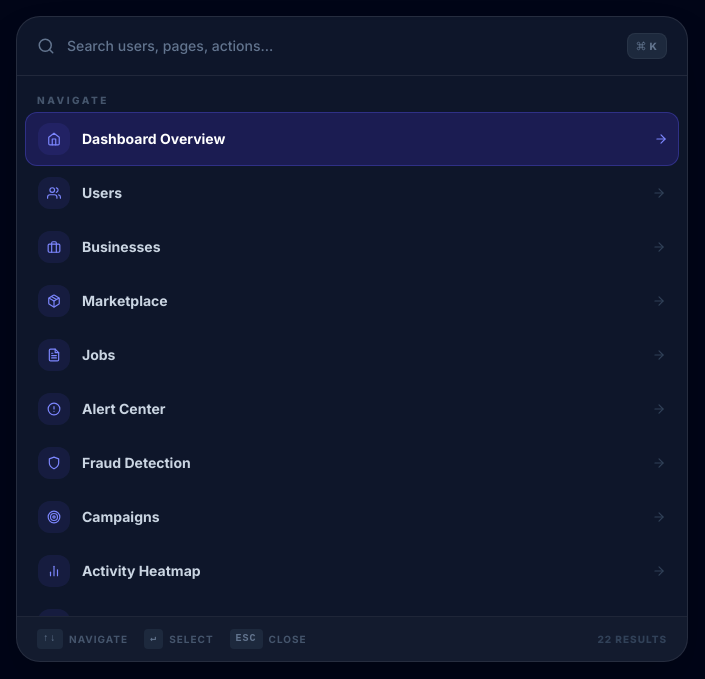
Test: AdminCommandPalette Component › filters static navigation commands
In the field with placeholder "Search users, pages, actions...": (341, 46) [67, 36, 615, 56], type "Users"
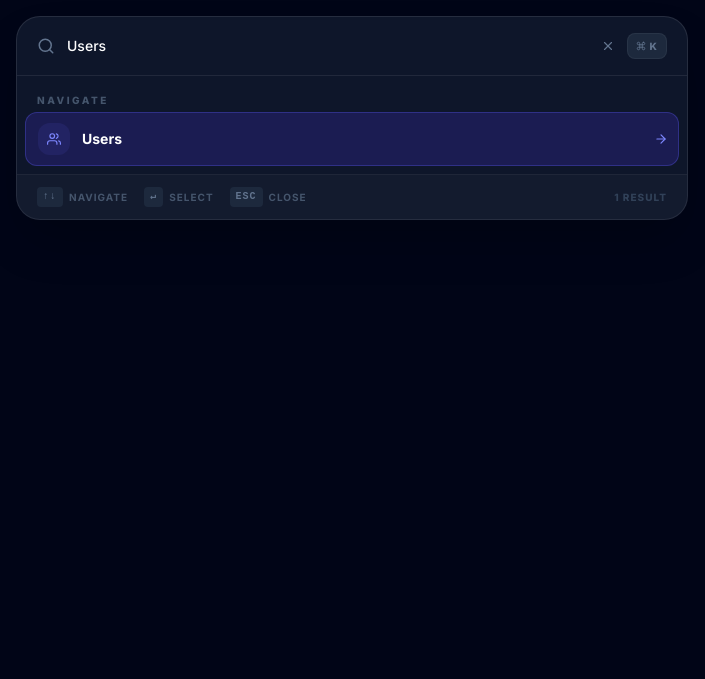
Expected: the text "Users" is shown, [82, 130, 122, 147]
Expected: the button "Dashboard Overview" is gone
